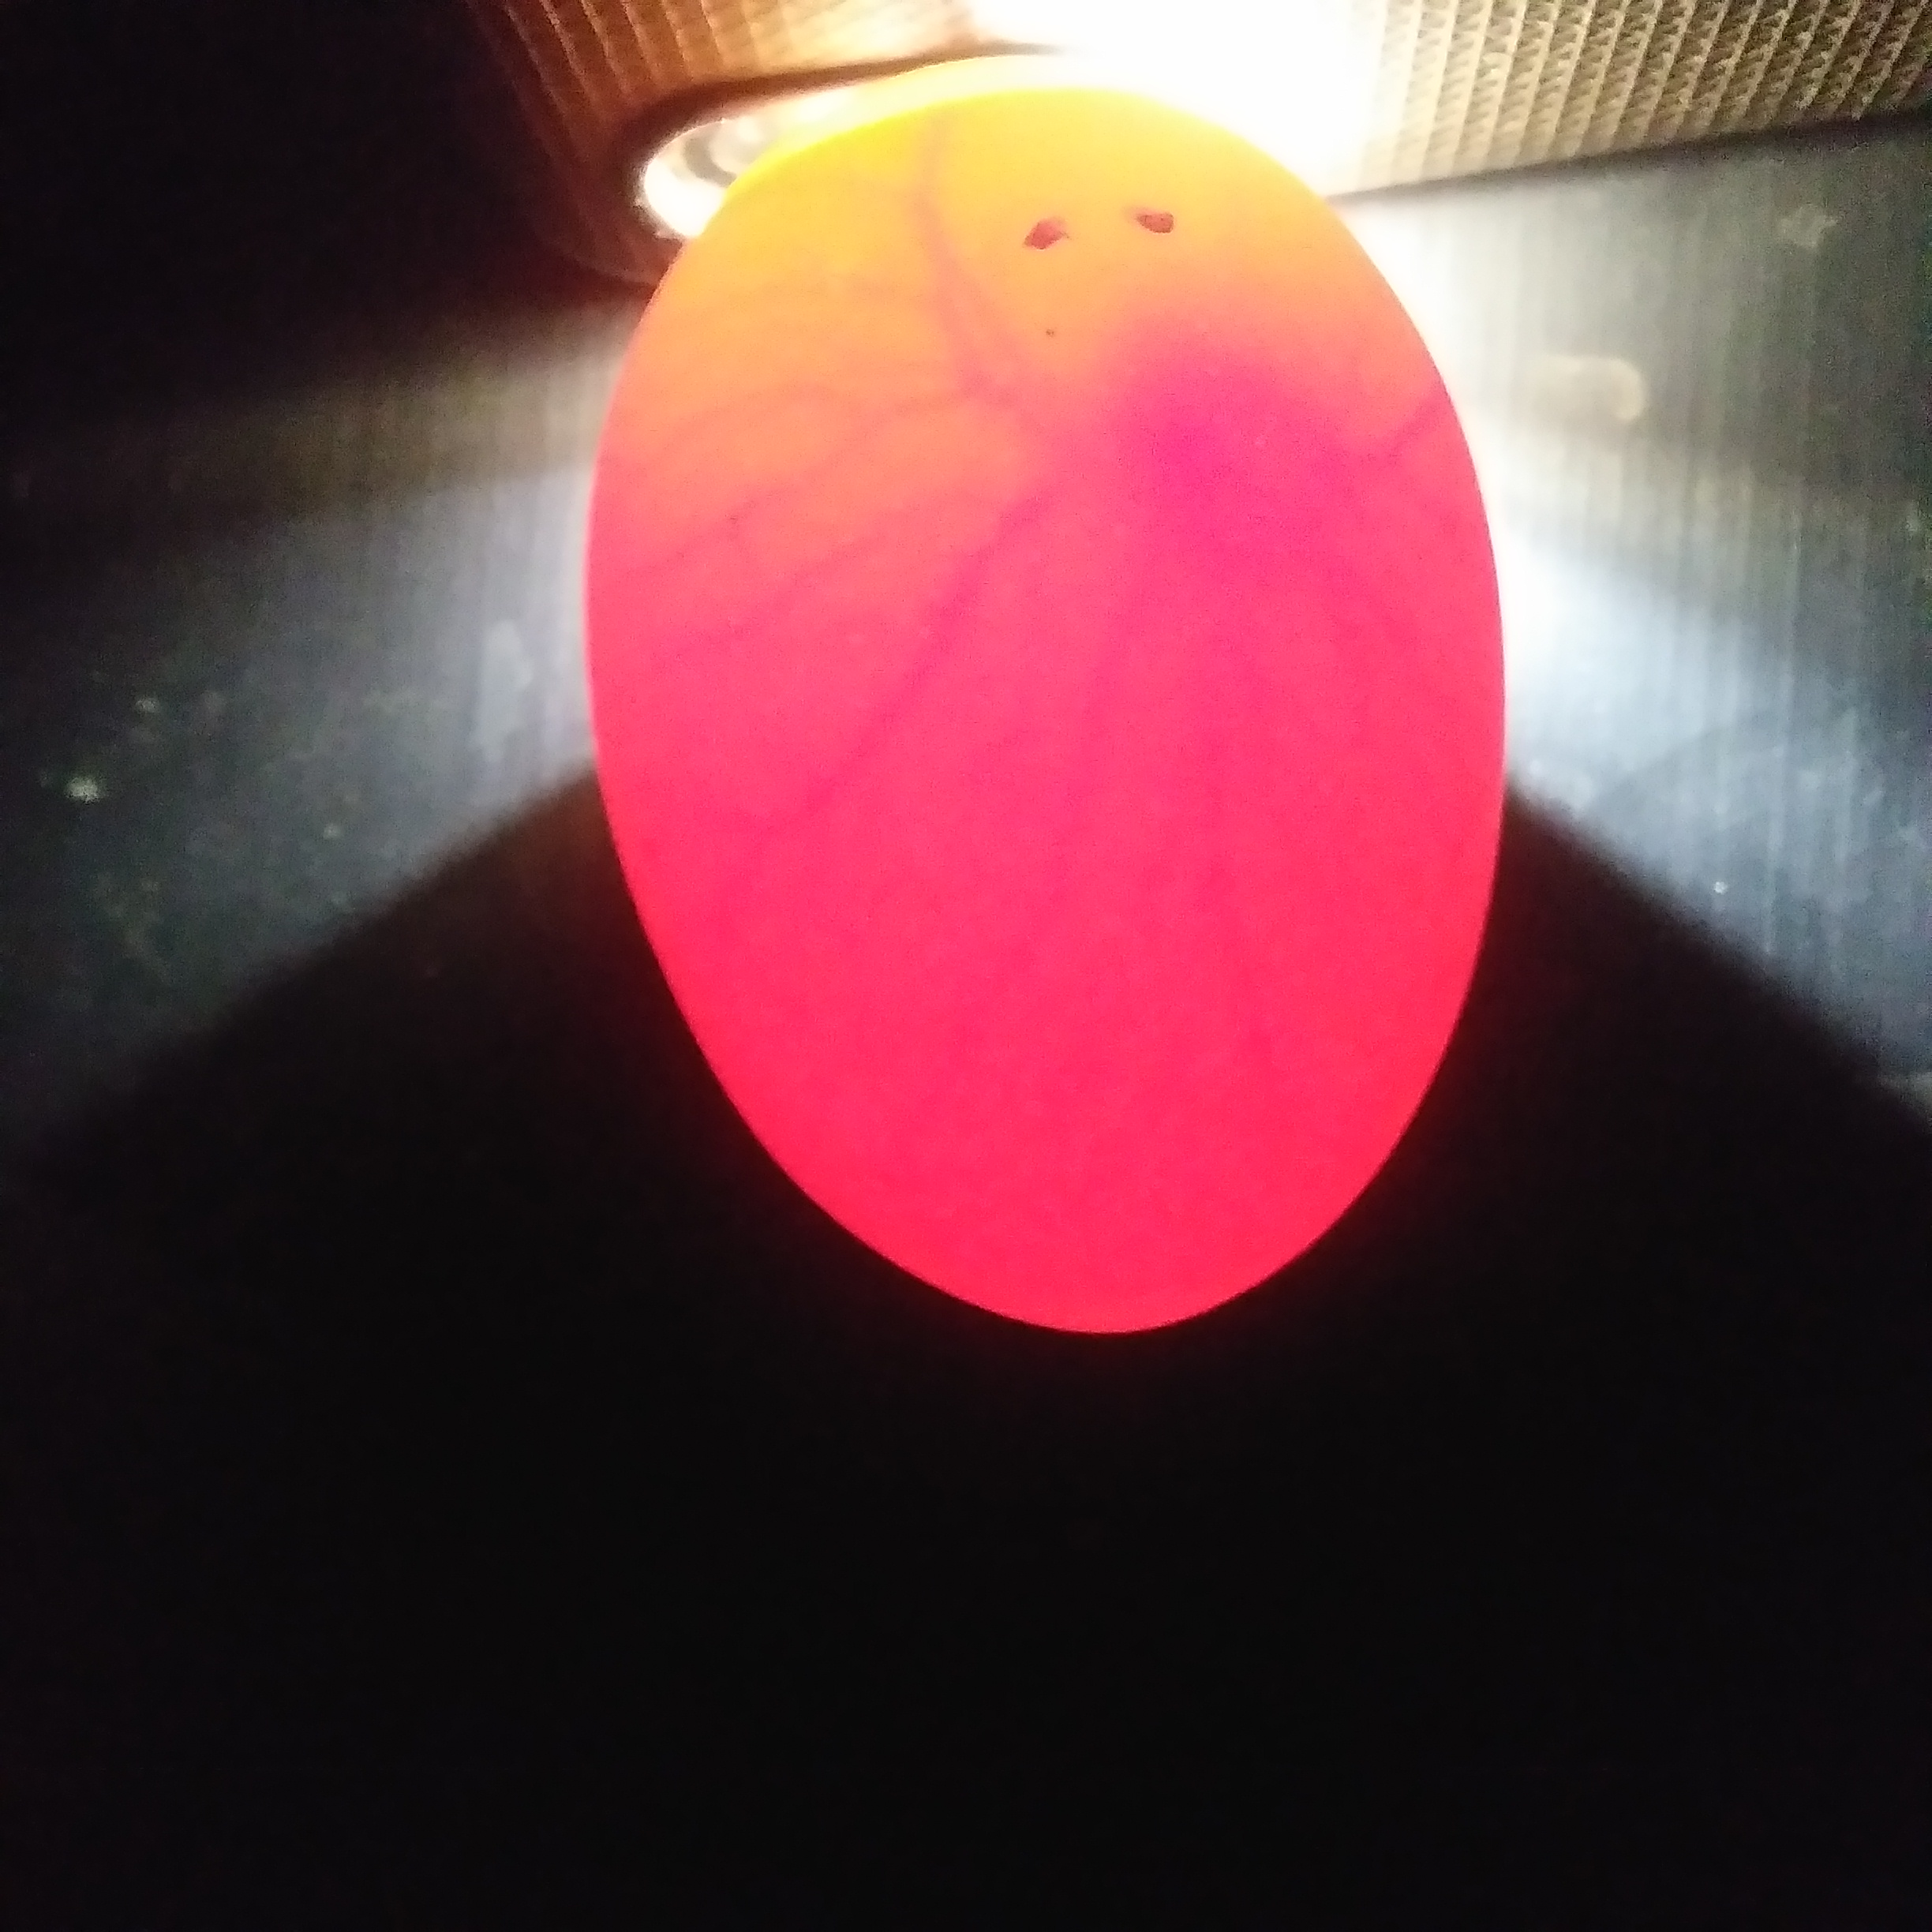bloodcell: (771, 143, 1069, 1017)
embryo: (1127, 311, 1288, 548)
